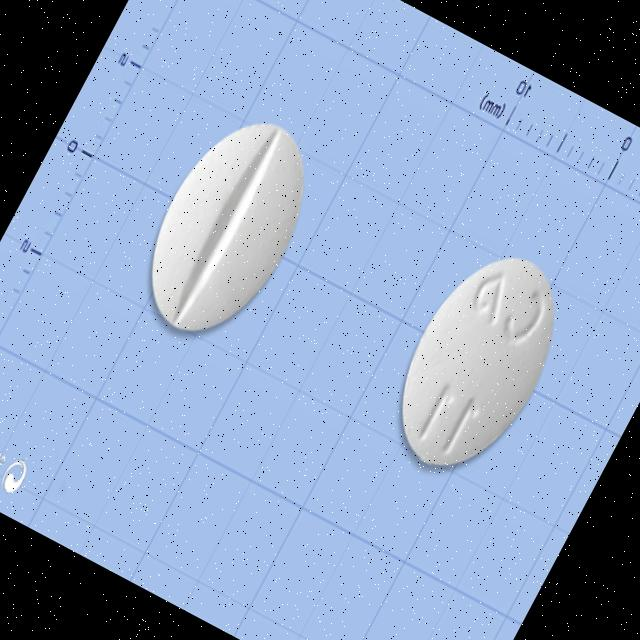Prodin Tab: (366, 226, 590, 493), (117, 98, 336, 359)
